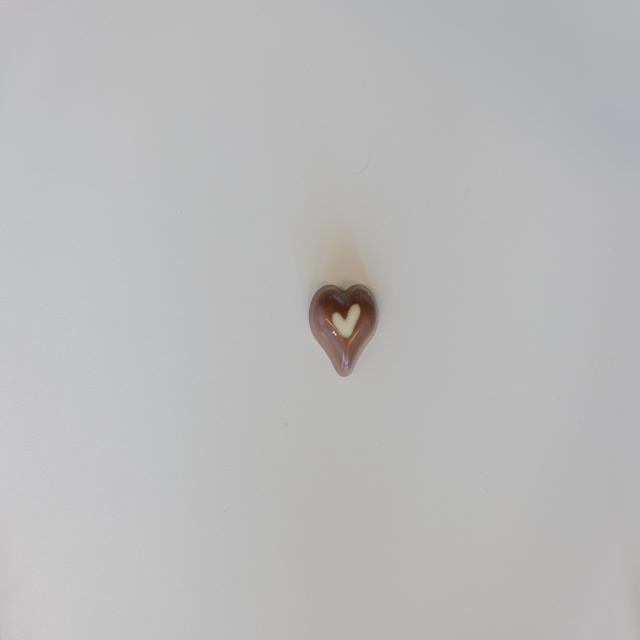Passion_au_lait: (309, 284, 378, 378)
